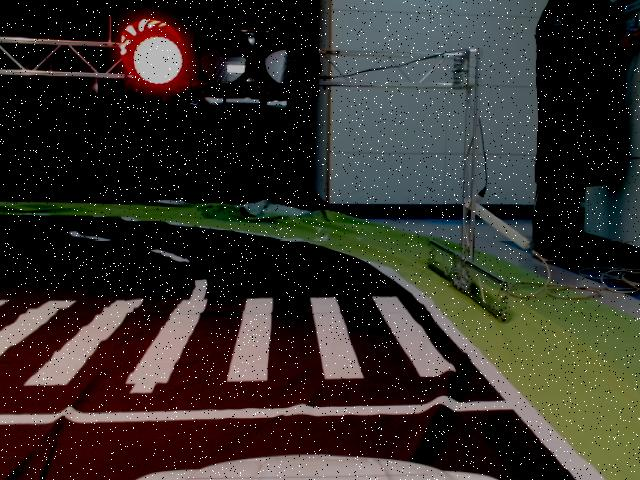crosswalk: (0, 297, 460, 382)
traffic light-red-: (121, 20, 321, 97)
